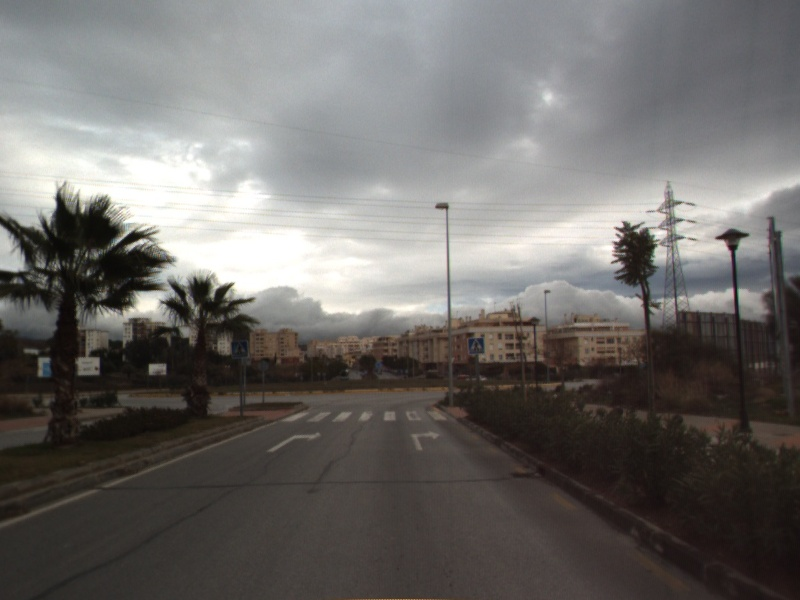RIGHT: (264, 430, 324, 454), (408, 428, 442, 452)
